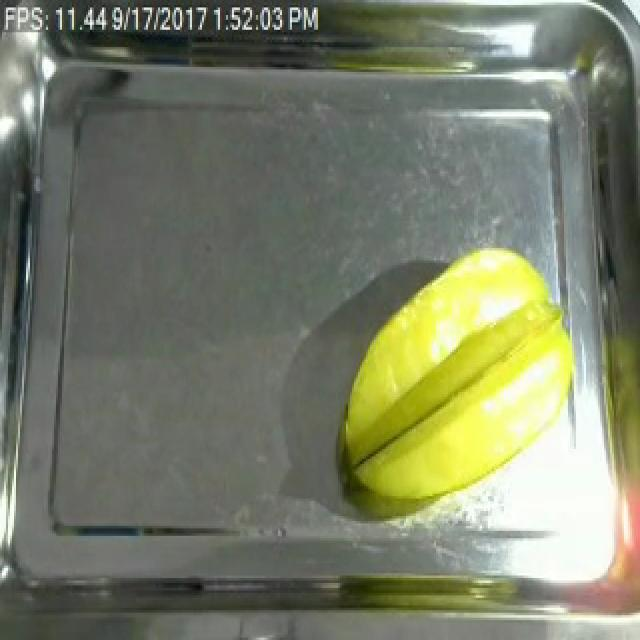fruit: (332, 238, 586, 514)
